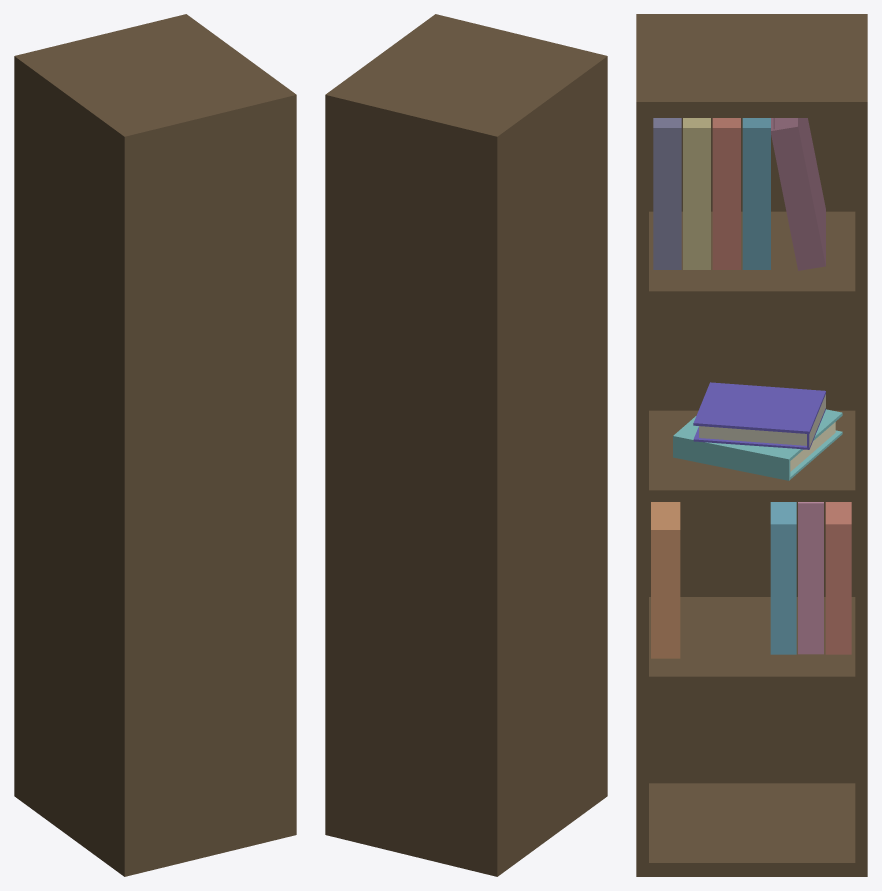
The model's file is Book shelf.fbx.
3 renders of one model, left to right at view 1: azimuth 30°, elevation 25°; view 2: azimuth 150°, elevation 25°; view 3: azimuth 270°, elevation 25°, orthographic. The views are drawn at different scales.
Parts seen in each view (by area): view 1: CABINET; view 2: CABINET; view 3: CABINET, BOOKS.004, BOOKS.
Part boxes in pixels (box(x1,y1,x2,y2)): CABINET: box(14, 14, 296, 876); CABINET: box(325, 14, 607, 876); CABINET: box(636, 14, 867, 876); BOOKS.004: box(651, 382, 851, 658); BOOKS: box(653, 118, 825, 270).
Size of the model in its own units: 189 by 777 by 210.
